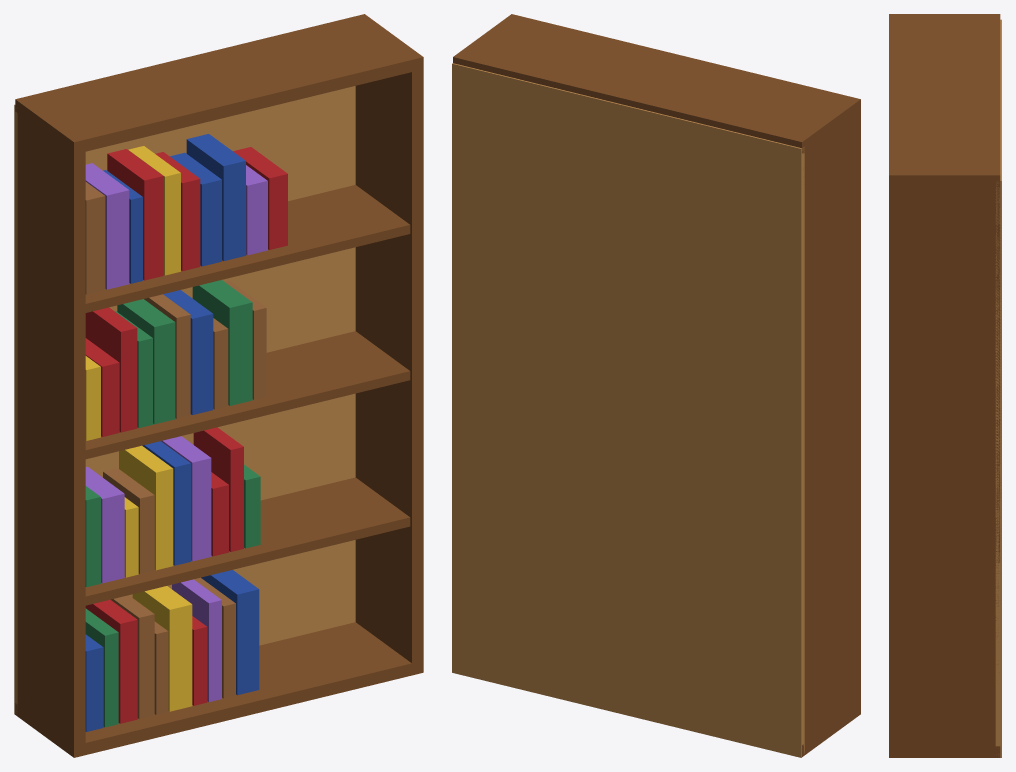
Rendered from bookshelf_tall.glb.
3 views of the same model, side by side, from view 1: azimuth 30°, elevation 25°; view 2: azimuth 150°, elevation 25°; view 3: azimuth 270°, elevation 25° (orthographic). The views are drawn at different scales.
Visible parts, largest first — view 1: bookshelf_tall; view 2: bookshelf_tall; view 3: bookshelf_tall.
Part boxes in pixels (x1,y1,x2,y2): bookshelf_tall: (14,14,423,757); bookshelf_tall: (452,14,860,757); bookshelf_tall: (889,14,1001,757).
Size of the model in its own units: 1.2 by 2.02 by 0.355.
